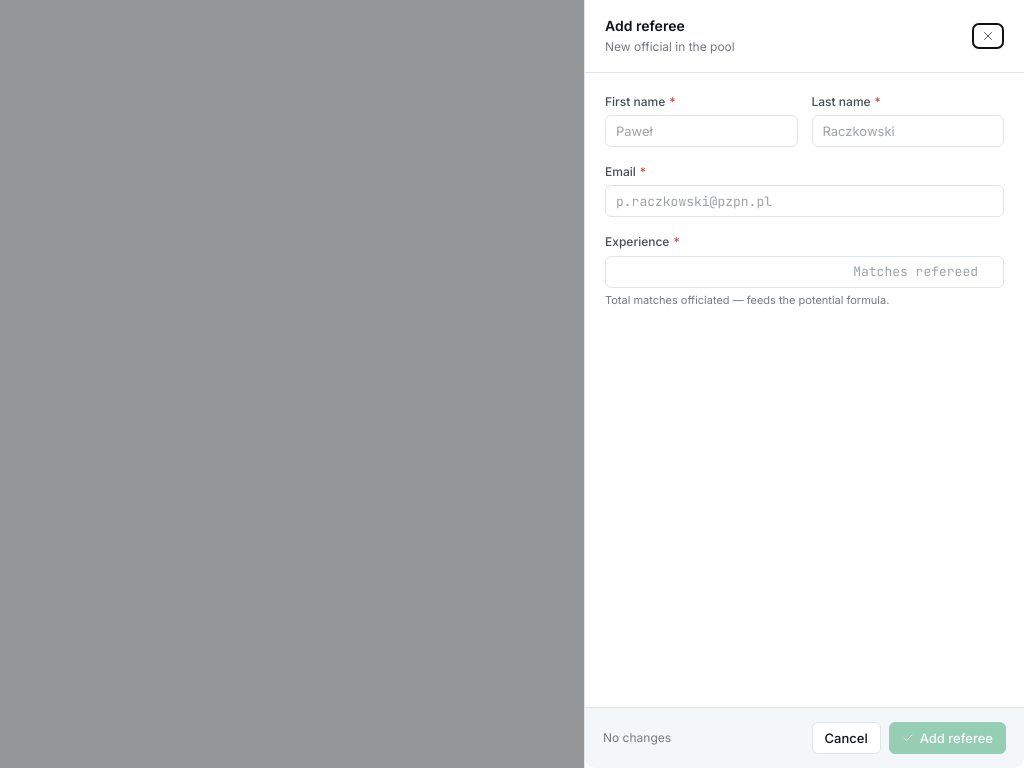
Test: RefereeFormComponent › rejects an email without a TLD via the pattern and keeps submit disabled until all fields are valid
Expected: the submit button is disabled, [889,722,1006,754]
In the field with id "firstName": (701, 131) [605,115,798,147], type "Jan"
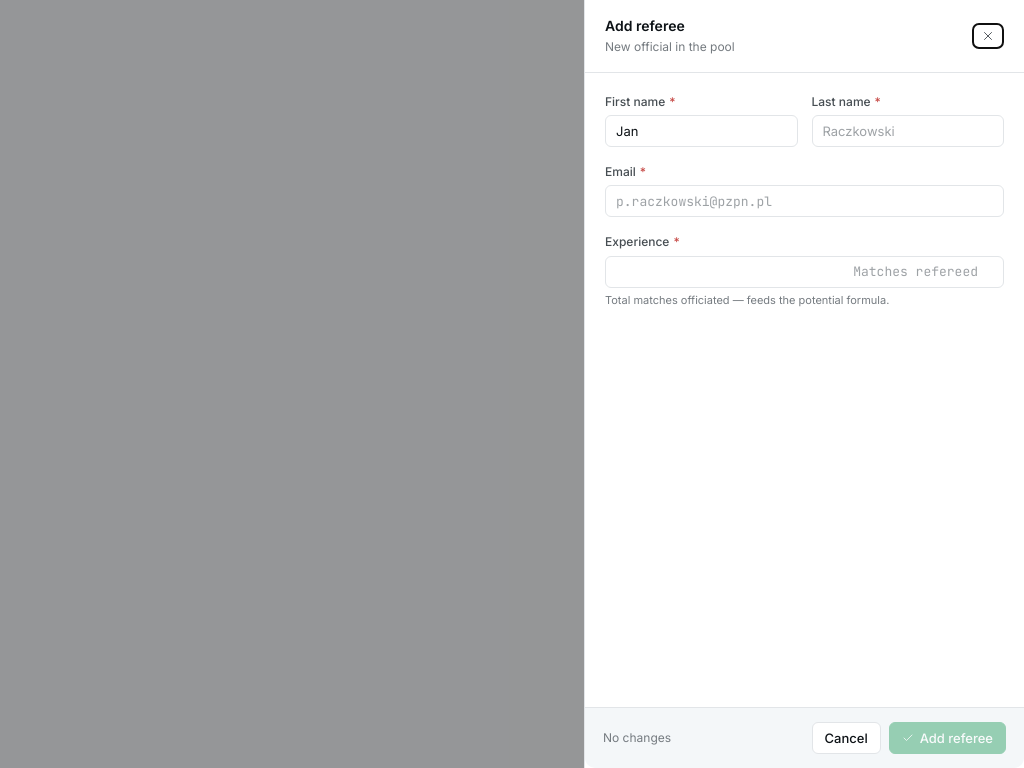
In the field with id "lastName": (908, 131) [812,115,1004,147], type "Kowalski"
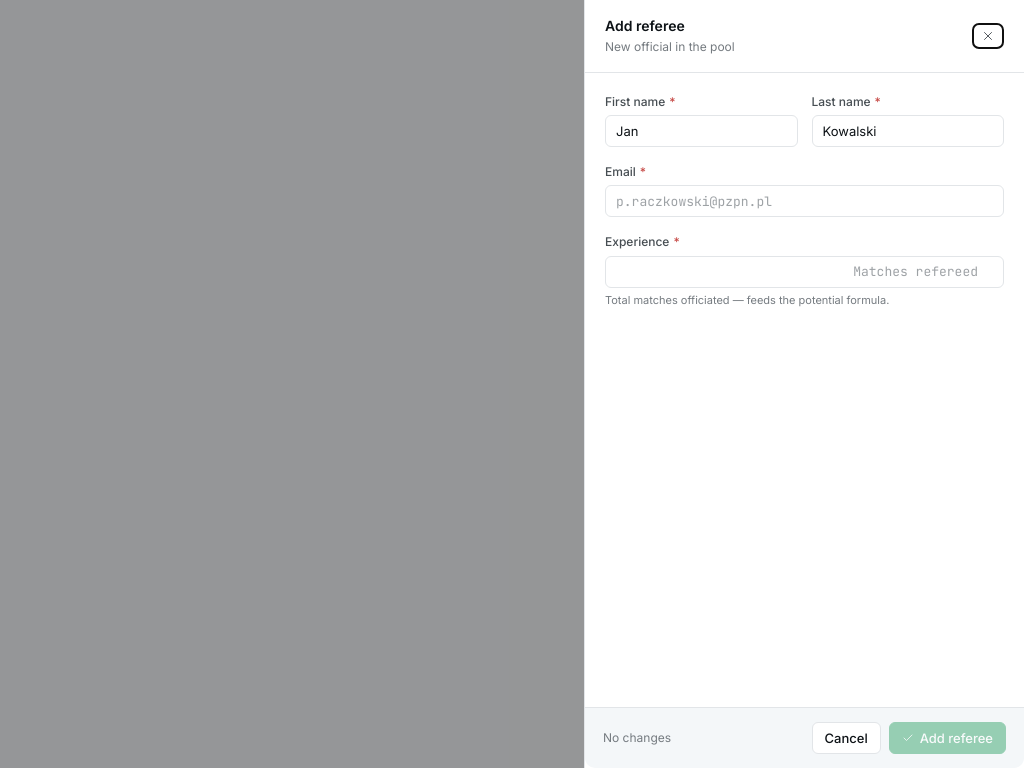
In the number field with id "experience": (804, 272) [605,256,1004,288], type "5"
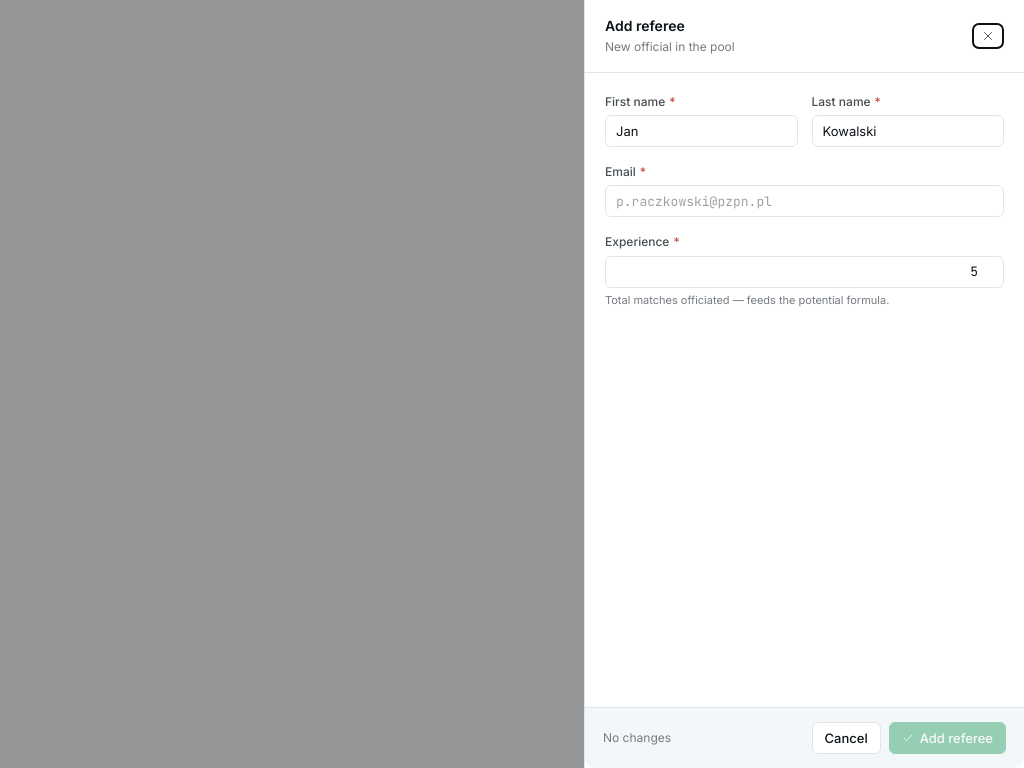
In the field with id "email": (804, 202) [605,186,1004,218], type "jan@localhost"
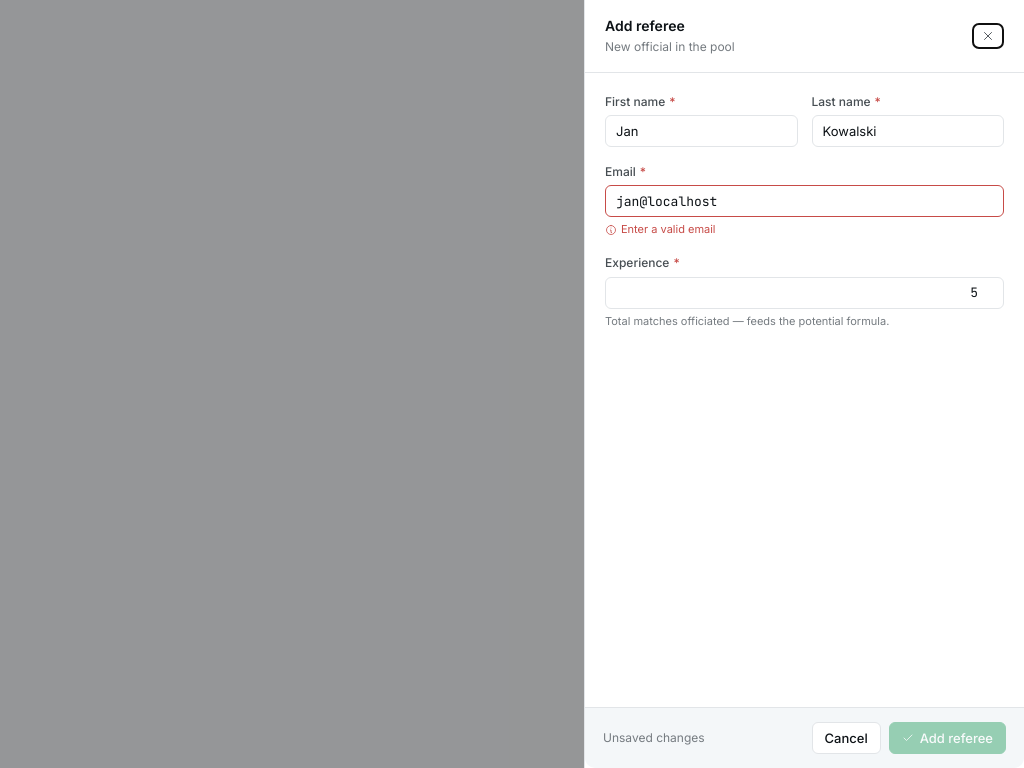
Expected: the submit button is disabled, [889,722,1006,754]
Replace the text in the field with id "email" with "jan@example.com": (804, 202) [605,186,1004,218]
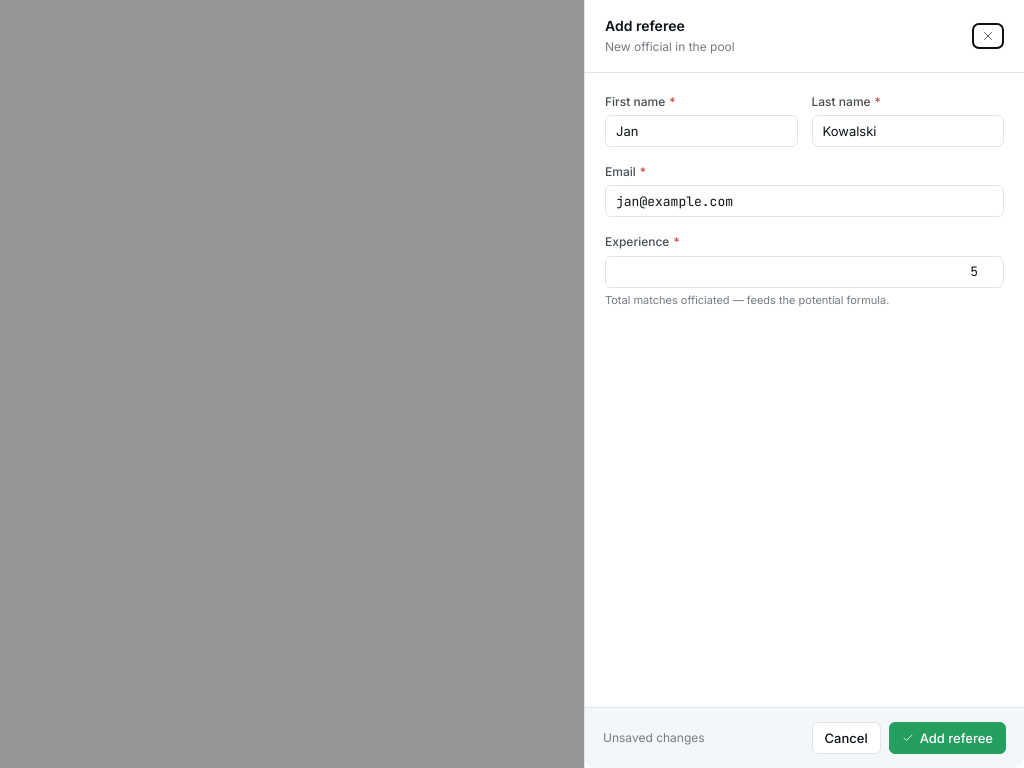
Result: the submit button is enabled at [889,722,1006,754]
